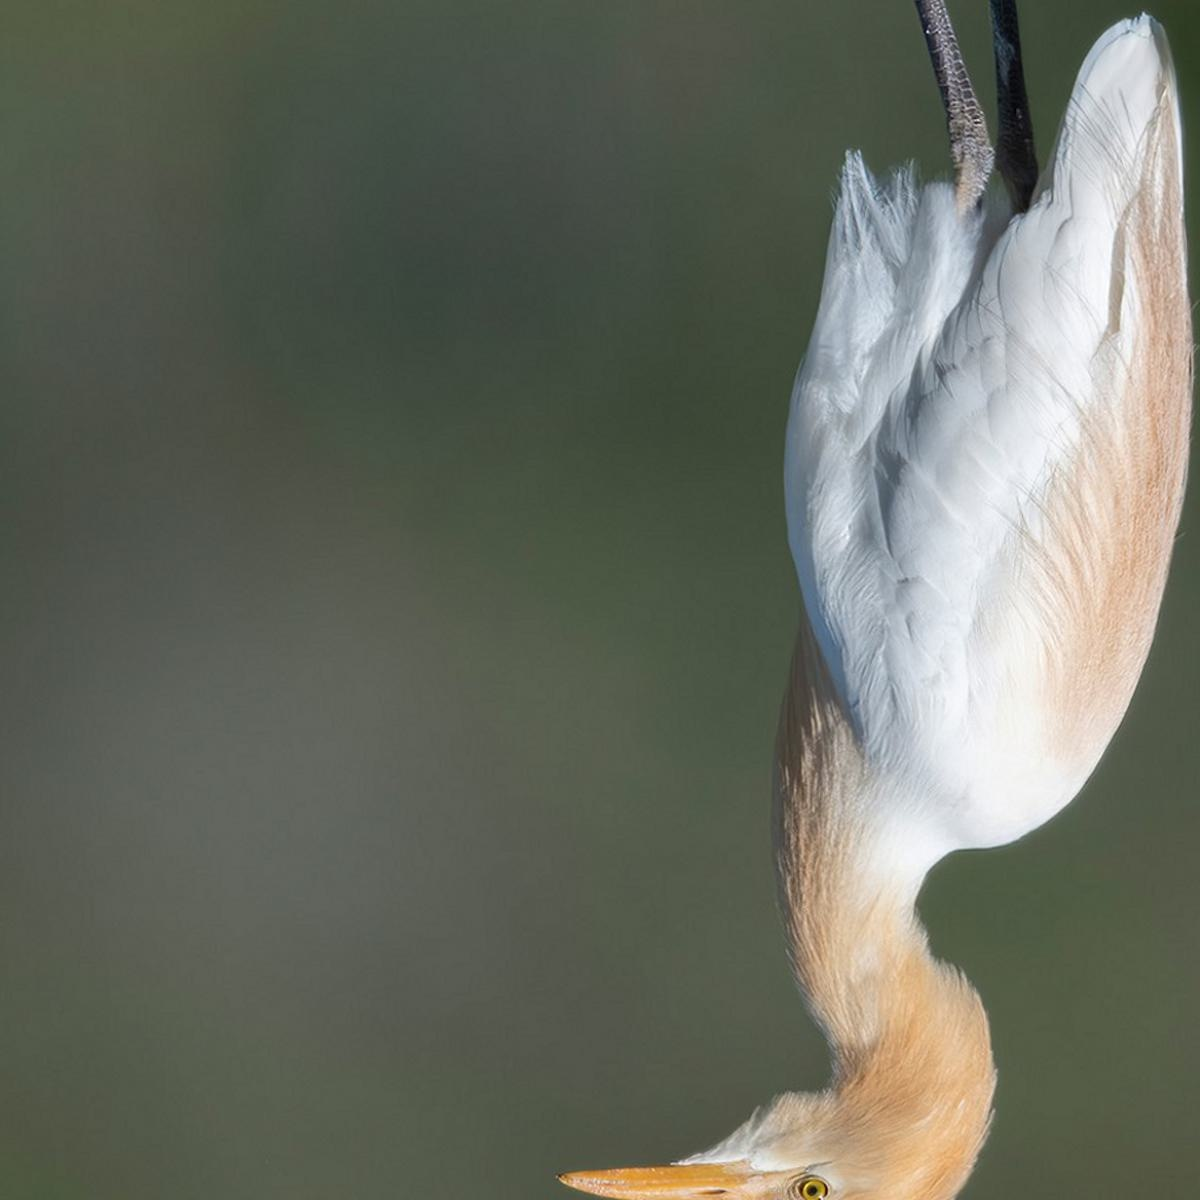egret: (574, 25, 1200, 1200)
